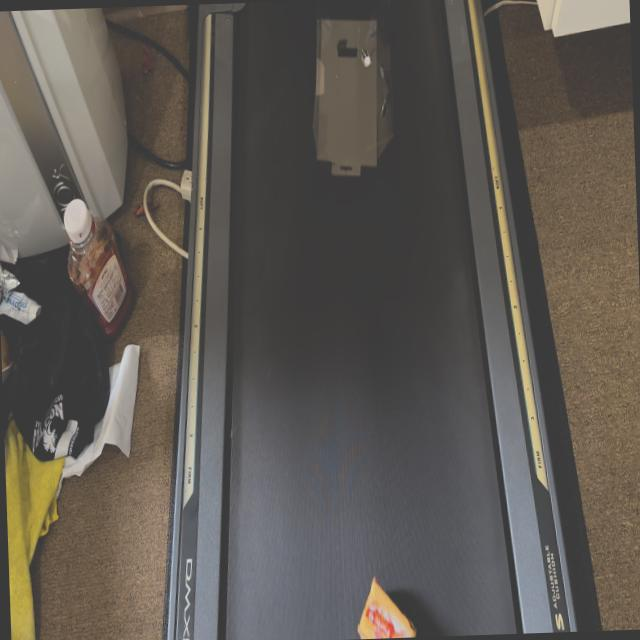Trash: (306, 6, 399, 180), (352, 574, 416, 638)
